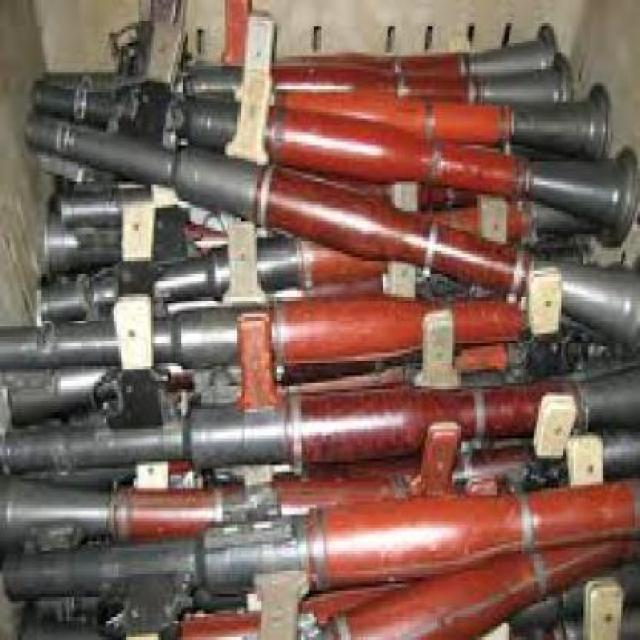weapon: (28, 108, 640, 350)
